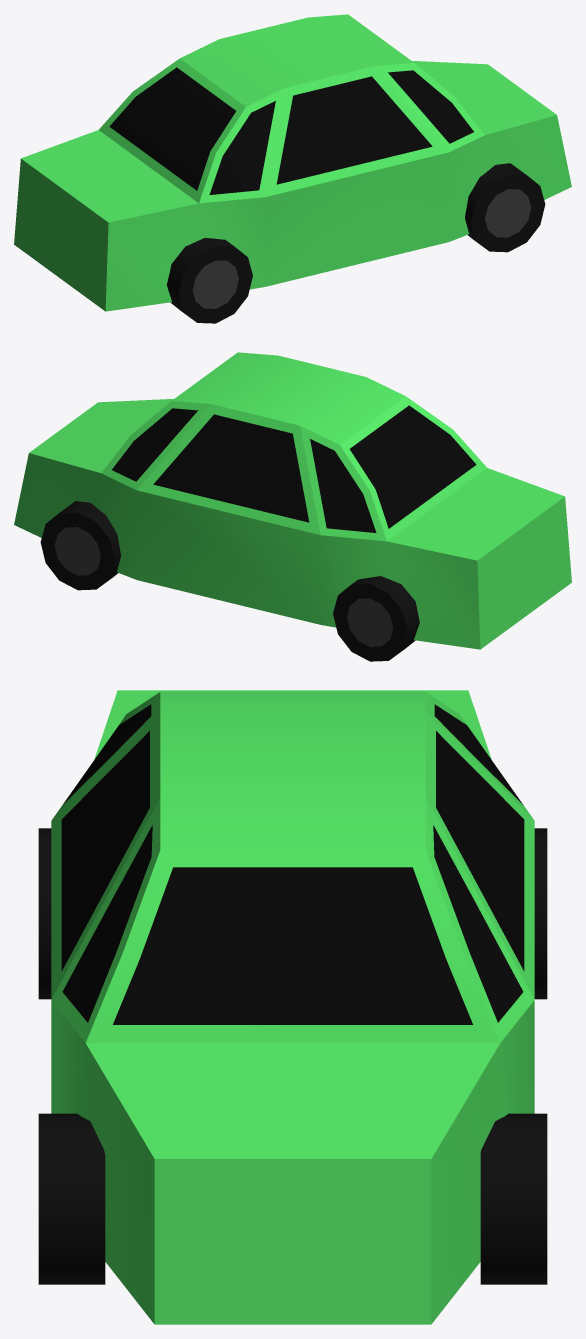
The model's file is Car_Green.FBX.
3 renders of one model, top to bottom at view 1: azimuth 30°, elevation 25°; view 2: azimuth 150°, elevation 25°; view 3: azimuth 270°, elevation 25°, orthographic. The views are drawn at different scales.
Visible parts, largest first — view 1: Car_Green; view 2: Car_Green; view 3: Car_Green.
Part boxes in pixels (box(x1,y1,x2,y2)): Car_Green: box(14, 14, 571, 323); Car_Green: box(14, 352, 571, 661); Car_Green: box(38, 690, 547, 1324).
Size of the model in its own units: 749 by 283 by 345.
